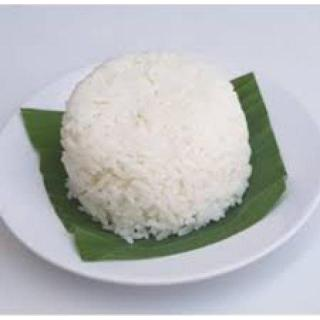Nasi: (59, 49, 253, 244)
